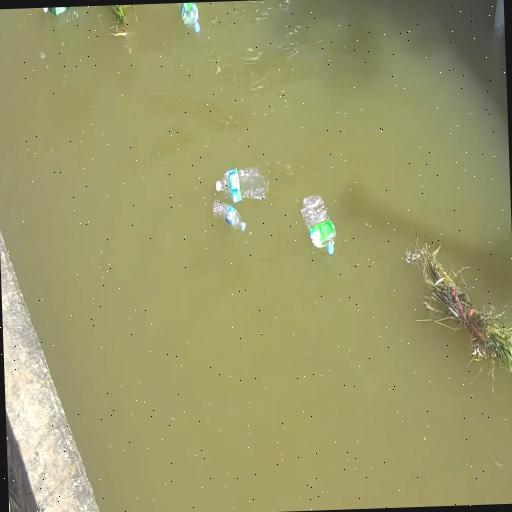plastic: (302, 188, 337, 262), (214, 163, 268, 202), (214, 195, 246, 232), (174, 2, 204, 34), (46, 6, 86, 21)
twig: (410, 221, 512, 377), (108, 4, 139, 41)
